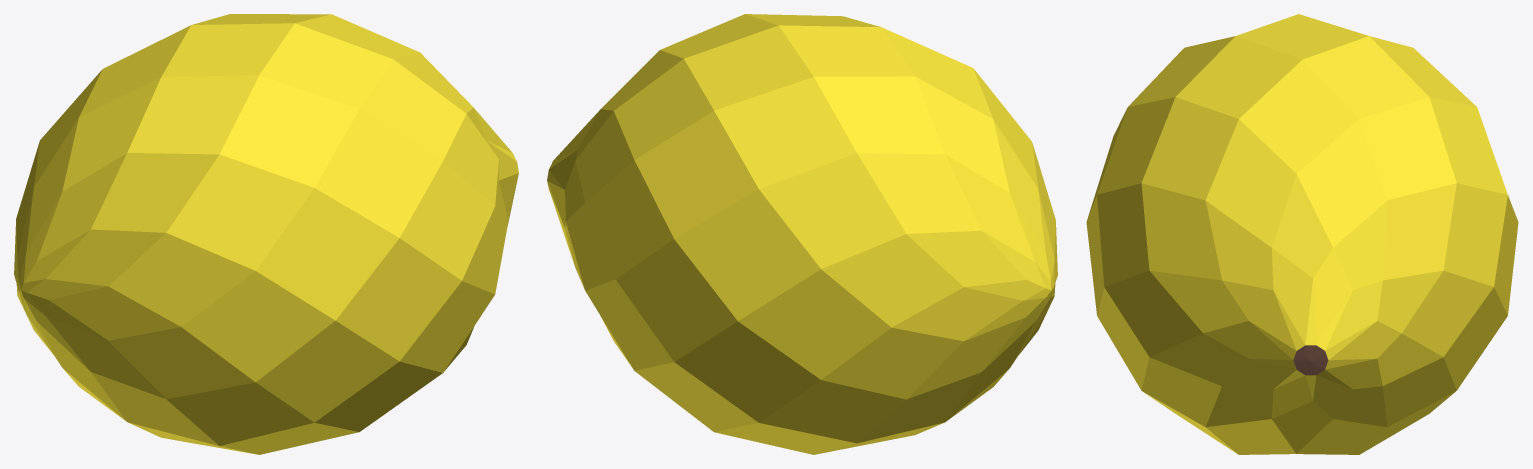
File: Lemon_01(1).gltf
3 views of the same model, side by side, from view 1: azimuth 30°, elevation 25°; view 2: azimuth 150°, elevation 25°; view 3: azimuth 270°, elevation 25° (orthographic). The views are drawn at different scales.
Parts seen in each view (by area): view 1: node-0; view 2: node-0; view 3: node-0.
Part boxes in pixels (x1,y1,x2,y2): node-0: [14, 14, 518, 454]; node-0: [547, 14, 1057, 454]; node-0: [1086, 14, 1518, 454].
Size of the model in its own units: 318 by 245 by 245.
